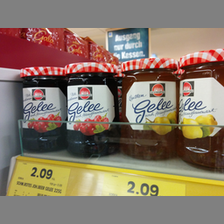jam: (119, 57, 179, 160), (179, 48, 223, 171), (65, 62, 120, 159), (20, 66, 66, 152)
